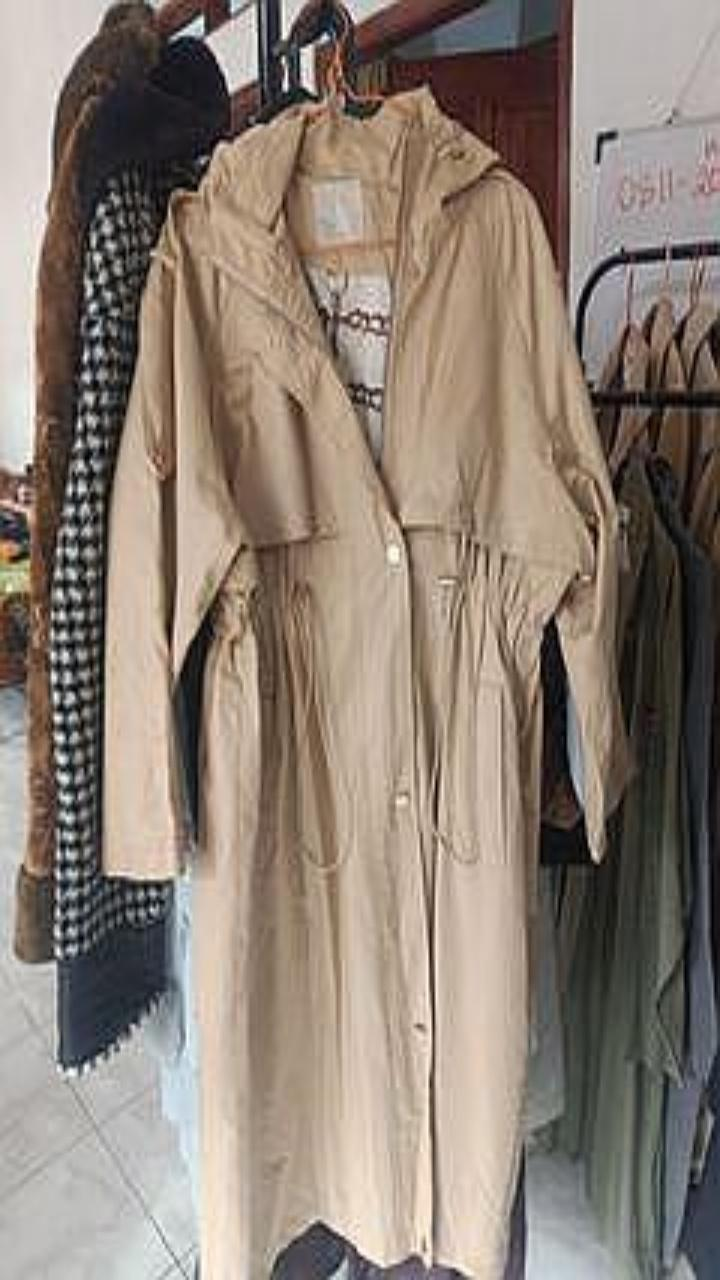Coat: (103, 90, 626, 1279), (14, 3, 160, 962)
